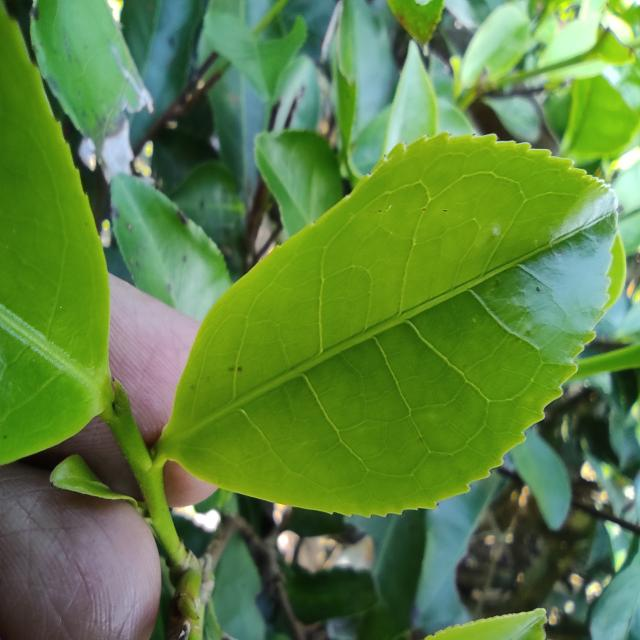Category B(2-4 days): (165, 116, 619, 526)
